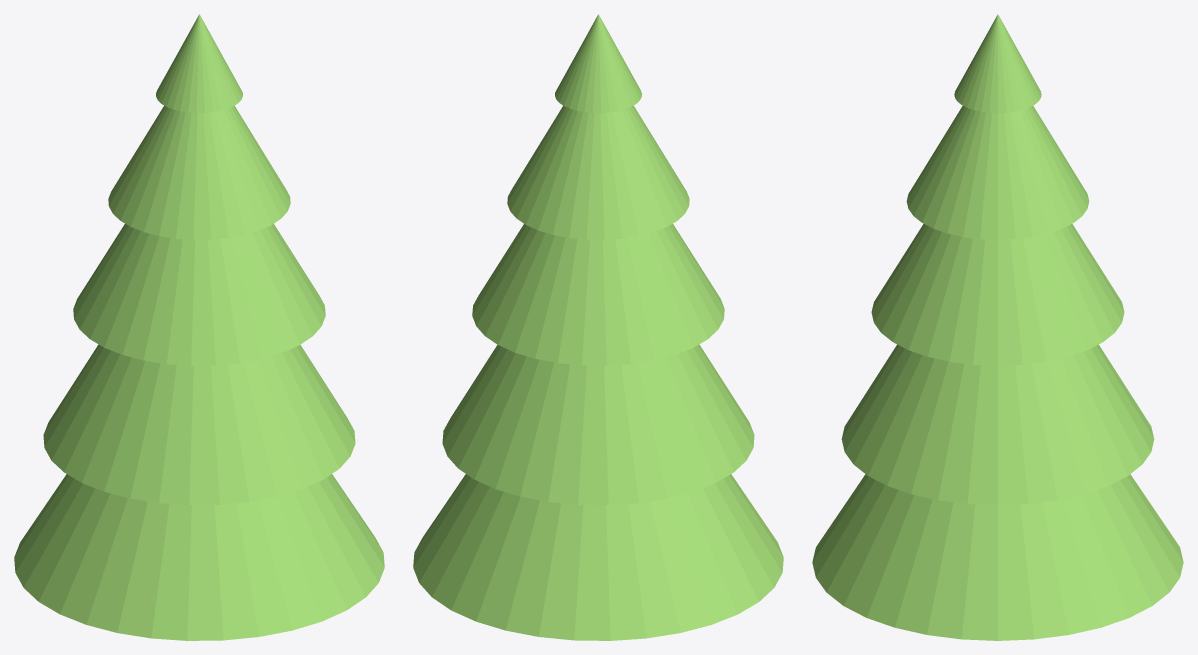
Rendered from tree1.fbx.
3 views of the same model, side by side, from view 1: azimuth 30°, elevation 25°; view 2: azimuth 150°, elevation 25°; view 3: azimuth 270°, elevation 25° (orthographic).
Parts seen in each view (by area): view 1: Cylinder; view 2: Cylinder; view 3: Cylinder.
Boxes of the visible parts, x1,y1,x2,y2 form: Cylinder: (14,14,384,640); Cylinder: (413,14,783,640); Cylinder: (812,14,1183,640).
Bounding box in the file's own units: 509 × 928 × 509.
